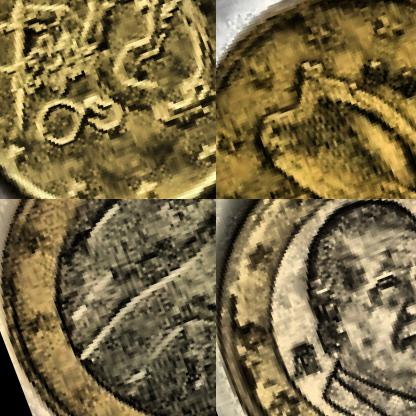coin: (0, 199, 215, 415), (216, 199, 415, 415), (0, 0, 215, 198), (216, 0, 415, 198)
